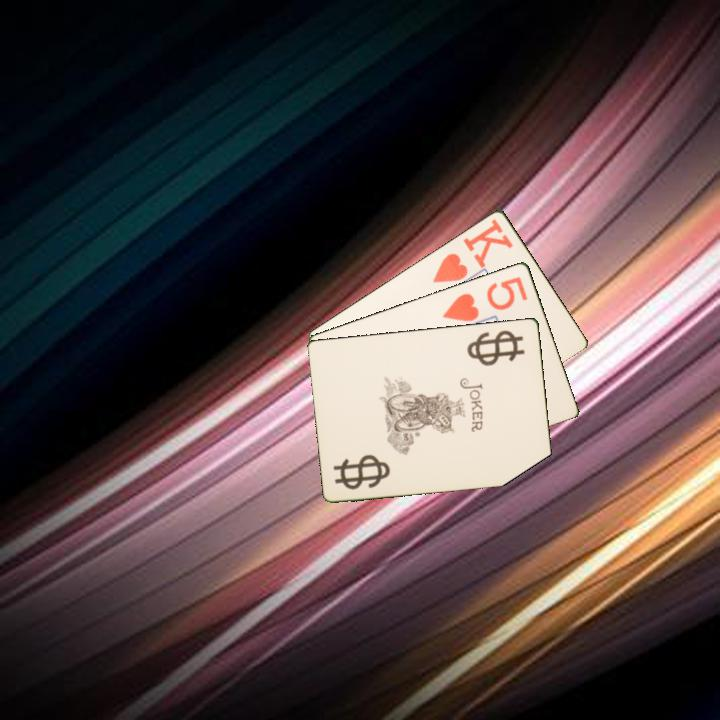5h: (439, 273, 531, 324)
JK: (330, 456, 393, 492), (468, 330, 517, 358)
Kh: (429, 215, 516, 286)
